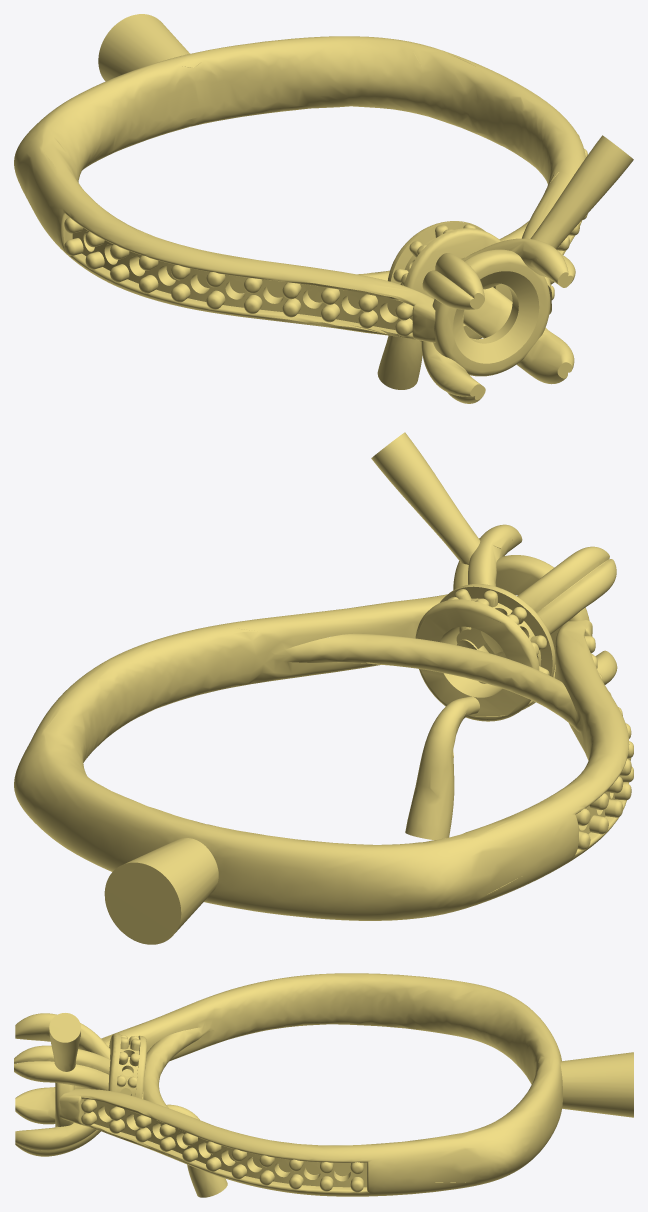
The picture shows the model from 3 angles, top to bottom: view 1: azimuth 30°, elevation 25°; view 2: azimuth 150°, elevation 25°; view 3: azimuth 270°, elevation 25°; orthographic projection. The views are drawn at different scales.
Parts seen in each view (by area): view 1: Renderer Node; view 2: Renderer Node; view 3: Renderer Node.
Part boxes in pixels (x1,y1,x2,y2): Renderer Node: (14, 14, 633, 403); Renderer Node: (14, 432, 633, 944); Renderer Node: (14, 973, 633, 1197).
Bounding box in the file's own units: 20.92 × 11.77 × 29.2.
